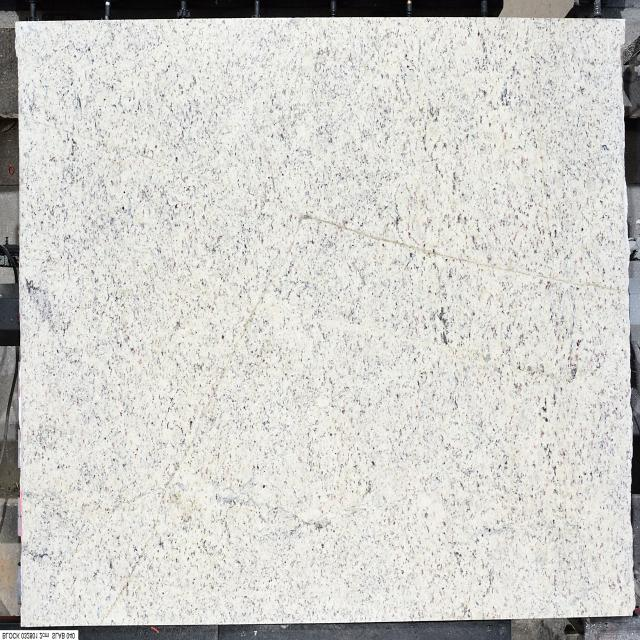chapa: (16, 18, 634, 625)
